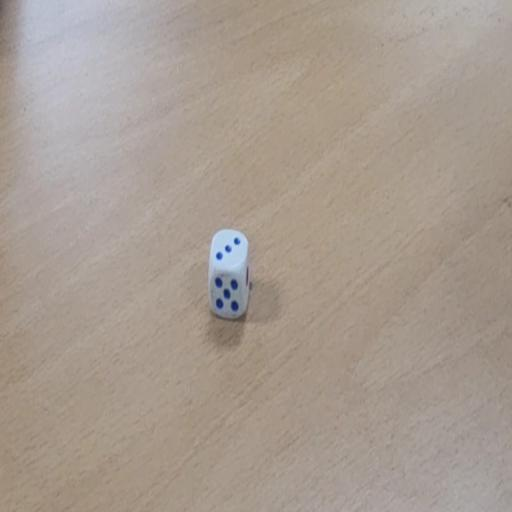dice_3: (208, 228, 250, 320)
